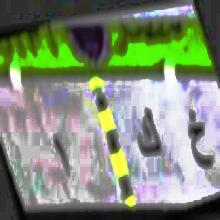1: (53, 124, 69, 181)
kaaf: (137, 102, 161, 170)
khaa: (186, 105, 214, 180)
